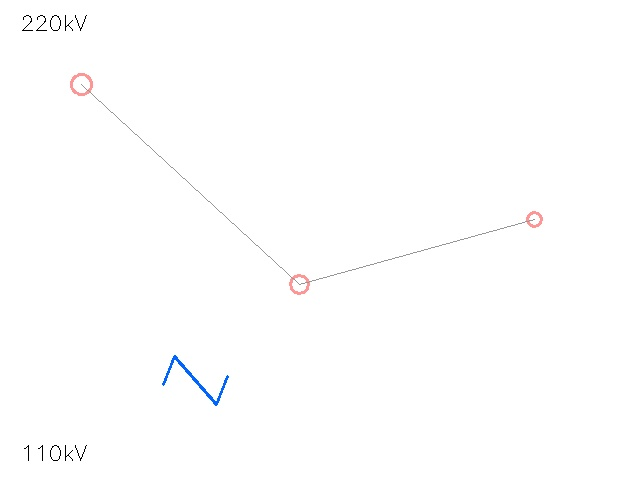circuit_breaker: (164, 349, 226, 411)
current_transformer: (61, 64, 101, 104)
load_break_switch: (281, 266, 317, 302)
voltage_transformer: (519, 204, 549, 234)
